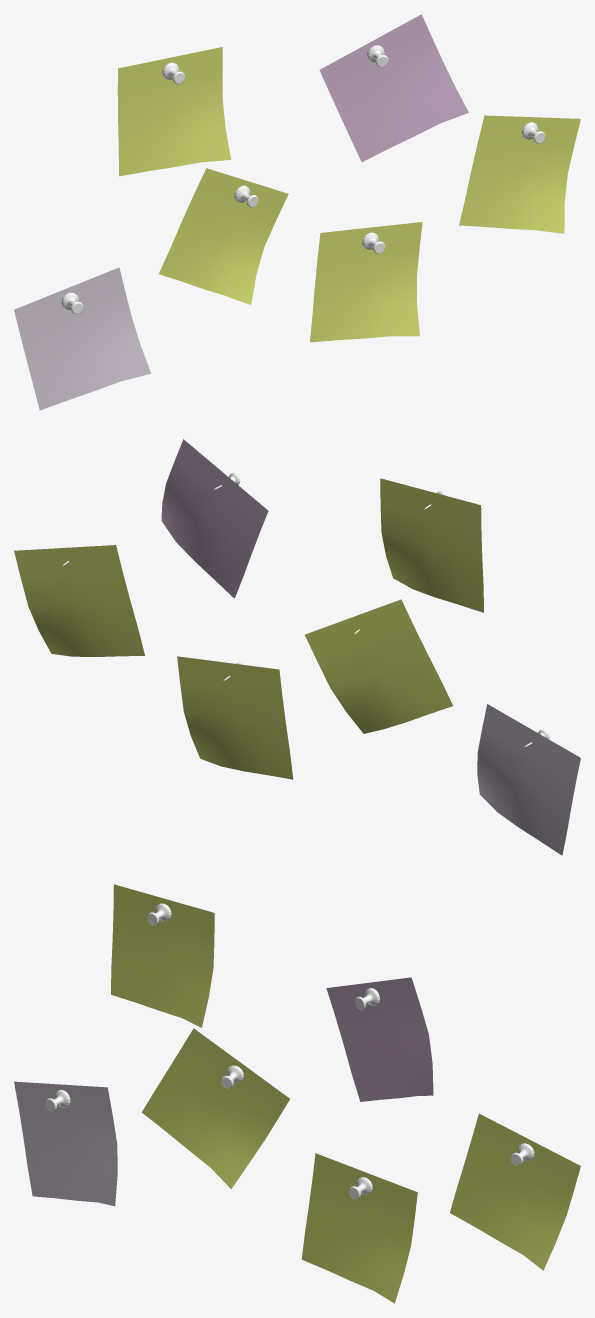
Rendered from asset.glb.
The picture shows the model from 3 angles, top to bottom: view 1: azimuth 30°, elevation 25°; view 2: azimuth 150°, elevation 25°; view 3: azimuth 330°, elevation 25°; orthographic projection. The views are drawn at different scales.
Visible parts, largest first — view 1: Plane.001, Plane.004, Plane.005, Plane.002, Plane.003, Plane; view 2: Plane, Plane.003, Plane.002, Plane.005, Plane.004, Plane.001; view 3: Plane, Plane.003, Plane.002, Plane.005, Plane.004, Plane.001.
Part boxes in pixels (left/top/right/bottom): Plane.001: left=319, top=14, right=468, bottom=161; Plane.004: left=14, top=267, right=150, bottom=410; Plane.005: left=117, top=47, right=231, bottom=176; Plane.002: left=310, top=222, right=422, bottom=342; Plane.003: left=459, top=115, right=580, bottom=233; Plane: left=159, top=168, right=288, bottom=304; Plane: left=305, top=599, right=452, bottom=733; Plane.003: left=14, top=545, right=144, bottom=656; Plane.002: left=177, top=656, right=293, bottom=779; Plane.005: left=380, top=478, right=483, bottom=612; Plane.004: left=477, top=704, right=580, bottom=855; Plane.001: left=161, top=439, right=268, bottom=598; Plane: left=141, top=1028, right=289, bottom=1188; Plane.003: left=450, top=1113, right=580, bottom=1270; Plane.002: left=301, top=1153, right=417, bottom=1303; Plane.005: left=111, top=884, right=214, bottom=1027; Plane.004: left=14, top=1081, right=117, bottom=1206; Plane.001: left=326, top=977, right=433, bottom=1101.
Bounding box in the file's own units: 11.01 × 6.16 × 0.8615.
